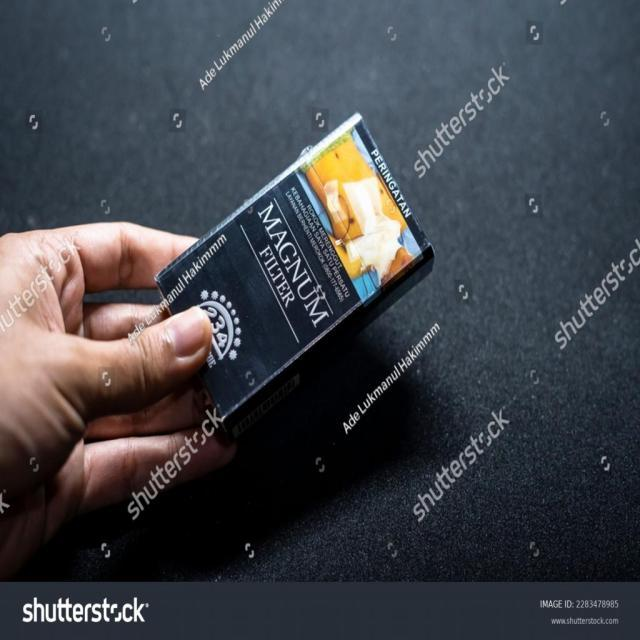smoking: (119, 108, 469, 442)
